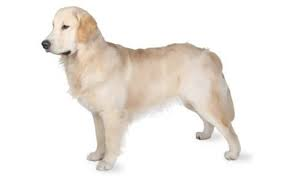Golden Retriever: (32, 2, 261, 177)
